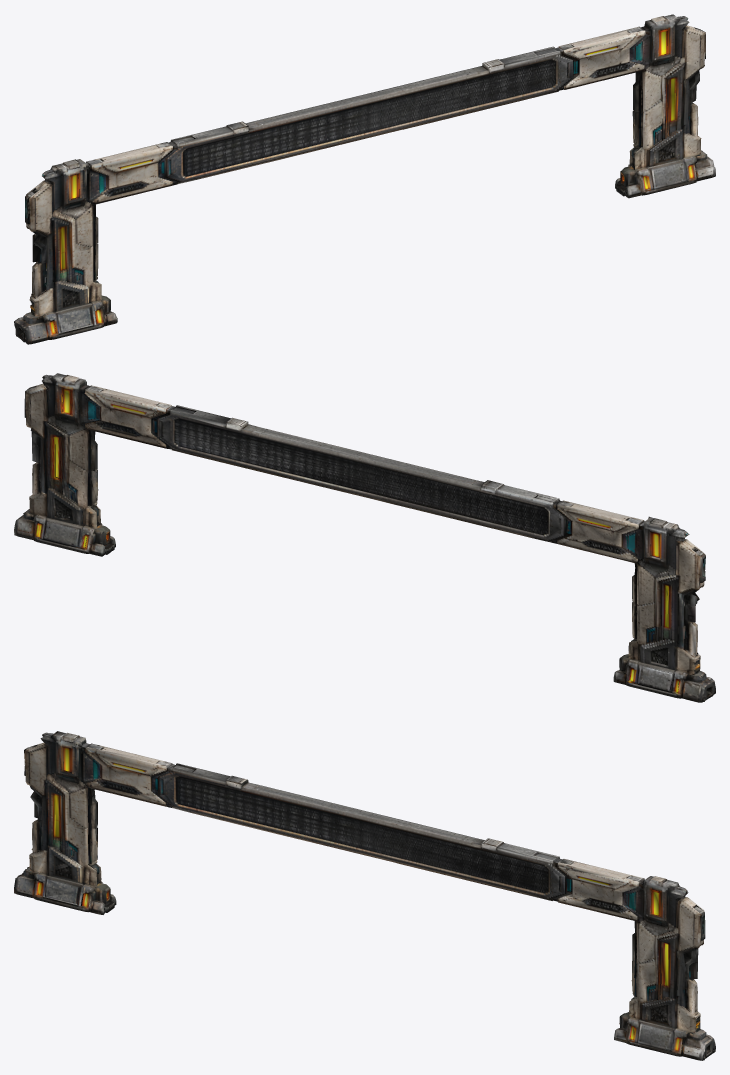
The model's file is kairox-finish-gantry.glb.
3 renders of one model, top to bottom at view 1: azimuth 30°, elevation 25°; view 2: azimuth 150°, elevation 25°; view 3: azimuth 330°, elevation 25°, orthographic.
Visible parts, largest first — view 1: kairox-finish-gantry; view 2: kairox-finish-gantry; view 3: kairox-finish-gantry.
Part boxes in pixels (x1=…): kairox-finish-gantry: x1=14, y1=14, x2=715, y2=344; kairox-finish-gantry: x1=14, y1=373, x2=715, y2=702; kairox-finish-gantry: x1=14, y1=731, x2=715, y2=1060.
Bounding box in the file's own units: 35 × 8 × 1.4.
1 material, 1 textured.
